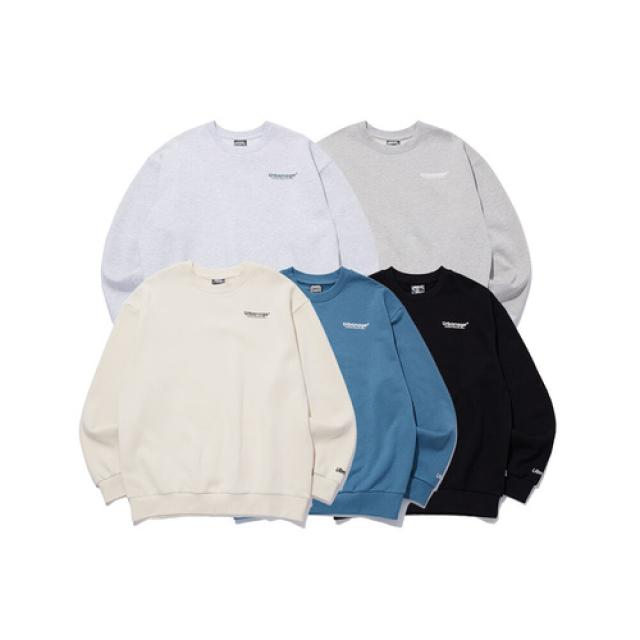Blouse_deep: (79, 260, 354, 524)
